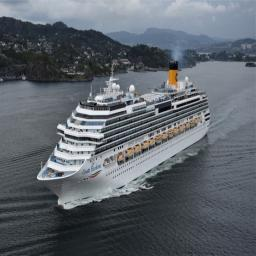cruises: (37, 57, 213, 212)
